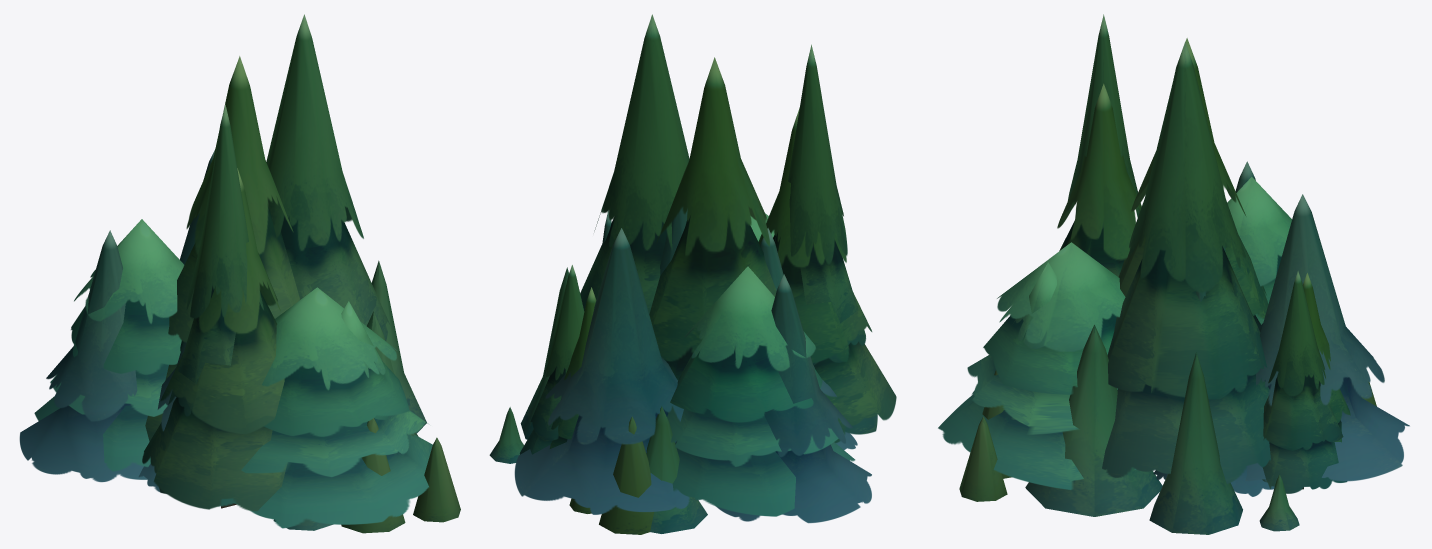
The model's file is forest_pine.gltf.
3 views of the same model, side by side, from view 1: azimuth 30°, elevation 25°; view 2: azimuth 150°, elevation 25°; view 3: azimuth 270°, elevation 25° (orthographic).
Parts seen in each view (by area): view 1: center_01, center_02, outer_03, outer_02, outer_01; view 2: center_01, center_02, outer_02, outer_03, outer_01; view 3: center_01, center_02, outer_03, outer_02, outer_01.
Part boxes in pixels (left/top/right/bottom): center_01: left=34, top=14, right=390, bottom=511; center_02: left=19, top=149, right=432, bottom=528; outer_03: left=159, top=104, right=426, bottom=533; outer_02: left=145, top=56, right=418, bottom=530; outer_01: left=138, top=301, right=460, bottom=522; center_01: left=580, top=14, right=896, bottom=516; center_02: left=514, top=210, right=871, bottom=523; outer_02: left=489, top=57, right=776, bottom=534; outer_03: left=520, top=44, right=877, bottom=533; outer_01: left=569, top=228, right=857, bottom=513; center_01: left=1057, top=42, right=1291, bottom=484; center_02: left=938, top=161, right=1409, bottom=489; outer_03: left=982, top=14, right=1347, bottom=534; outer_02: left=1025, top=38, right=1376, bottom=531; outer_01: left=959, top=262, right=1274, bottom=501.
Bounding box in the file's own units: 4.64 × 5.18 × 5.27.
Materials: 1 (1 with a texture image).
